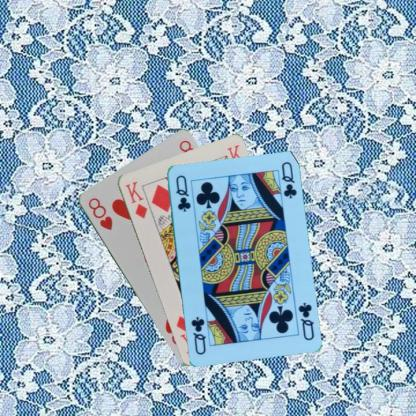8h: (85, 194, 114, 232)
Kd: (122, 178, 148, 220)
Qc: (295, 300, 315, 342), (173, 172, 192, 213)
